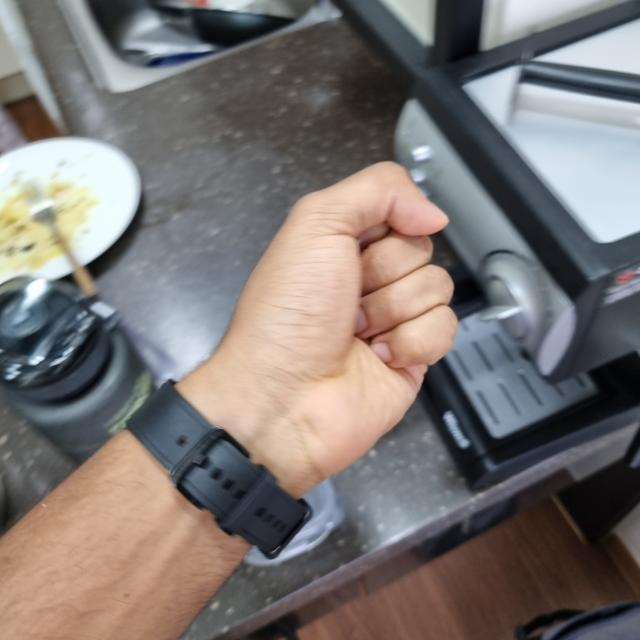Rock: (179, 159, 457, 490)
